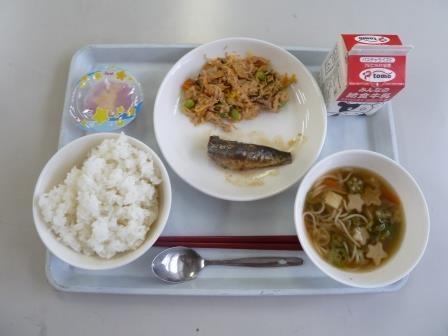Cup desserts: (60, 62, 141, 140)
Fish: (199, 131, 298, 197)
Milk: (317, 27, 414, 122)
Rice: (35, 149, 156, 256)
Soups: (305, 157, 420, 280)
cereal based cooked food: (187, 44, 295, 127)
